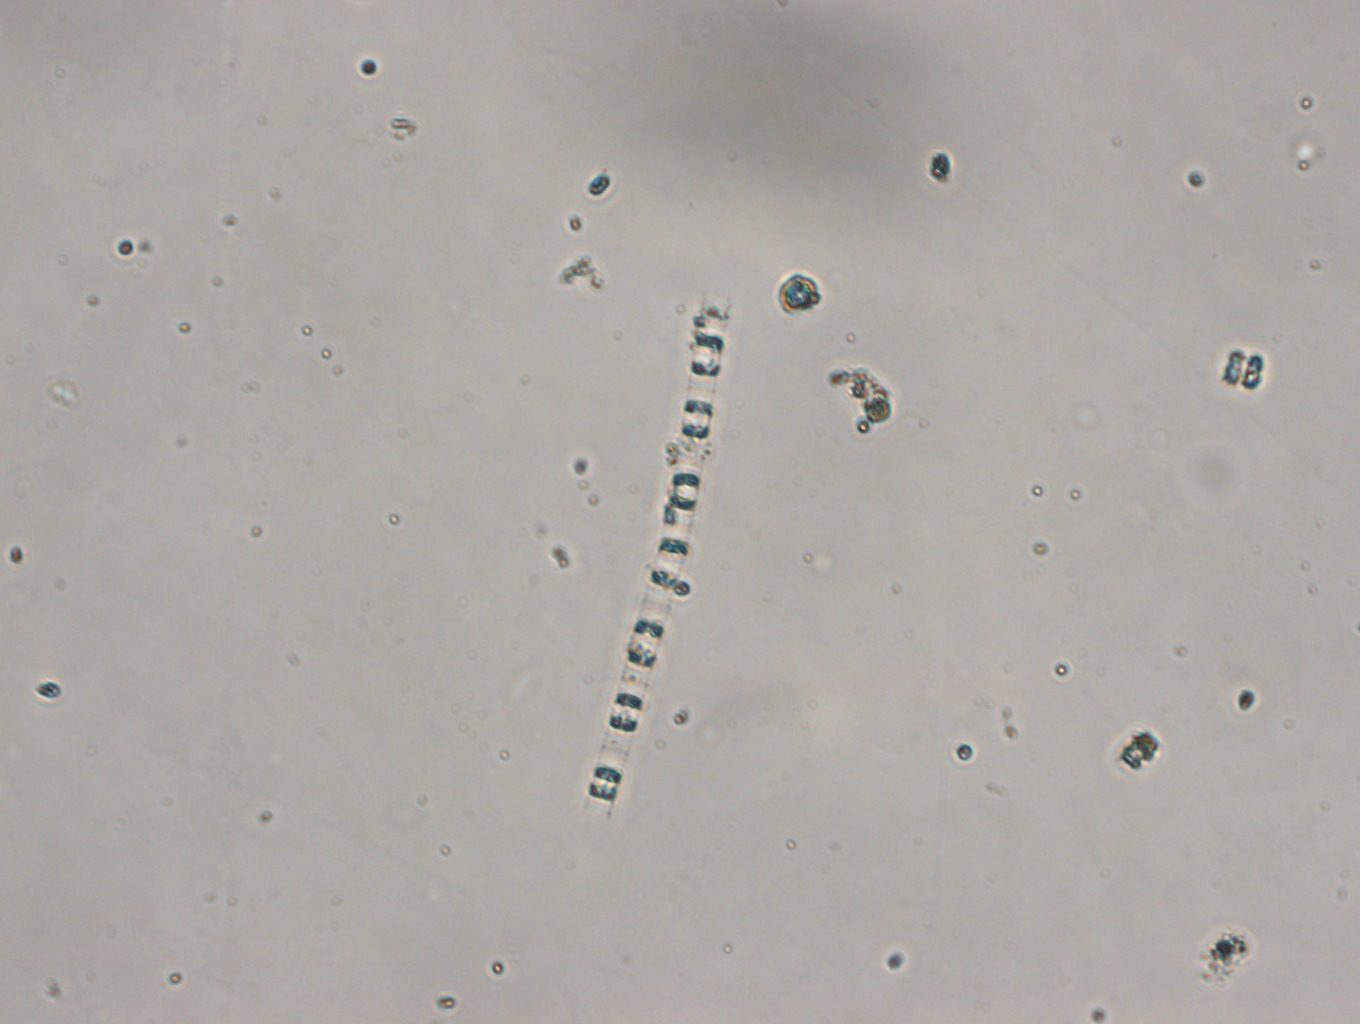skeletonema: (581, 283, 732, 816)
